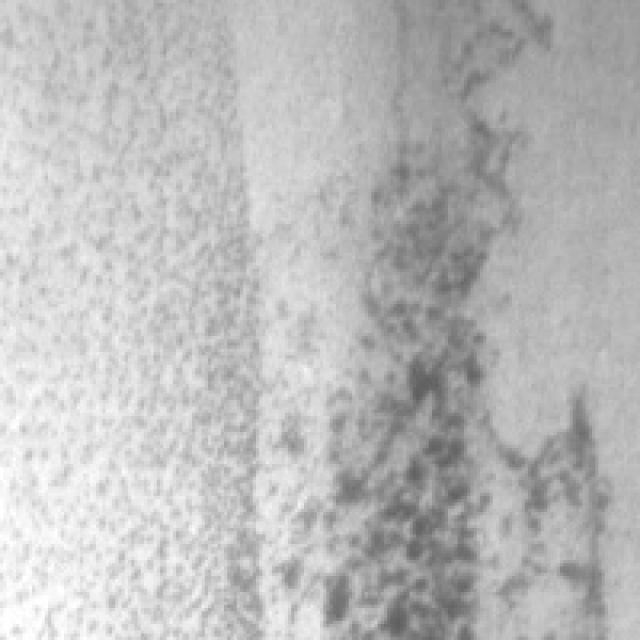pitted_surface: (288, 0, 614, 637), (3, 0, 269, 637)
